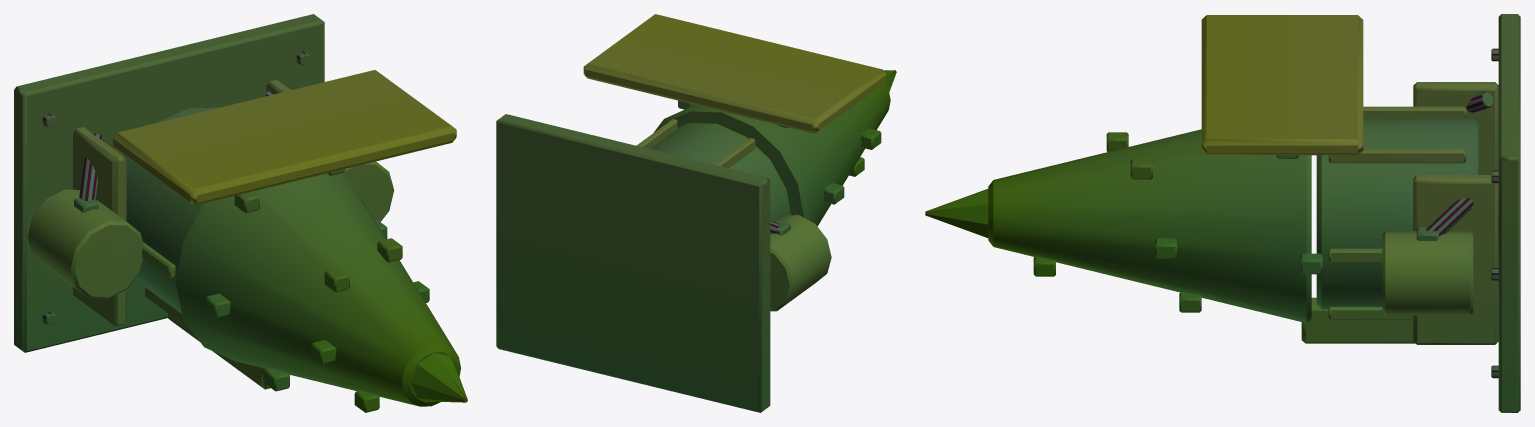
Rendered from RCLModule_heavy_artillery_subterranean_mole_borer.fbx.
3 views of the same model, side by side, from view 1: azimuth 30°, elevation 25°; view 2: azimuth 150°, elevation 25°; view 3: azimuth 270°, elevation 25° (orthographic). The views are drawn at different scales.
Parts seen in each view (by area): view 1: RCLModule_heavy_artillery_subterranean_mole_borer_Batch_RCLM (×2); view 2: RCLModule_heavy_artillery_subterranean_mole_borer_Batch_RCLM (×2); view 3: RCLModule_heavy_artillery_subterranean_mole_borer_Batch_RCLM (×2).
Boxes of the visible parts, <box> form: RCLModule_heavy_artillery_subterranean_mole_borer_Batch_RCLM (×2): <box>14,14,467,412</box>; RCLModule_heavy_artillery_subterranean_mole_borer_Batch_RCLM (×2): <box>496,14,896,412</box>; RCLModule_heavy_artillery_subterranean_mole_borer_Batch_RCLM (×2): <box>925,14,1520,412</box>.
Bounding box in the file's own units: 36.4 × 28.9 × 58.95.
